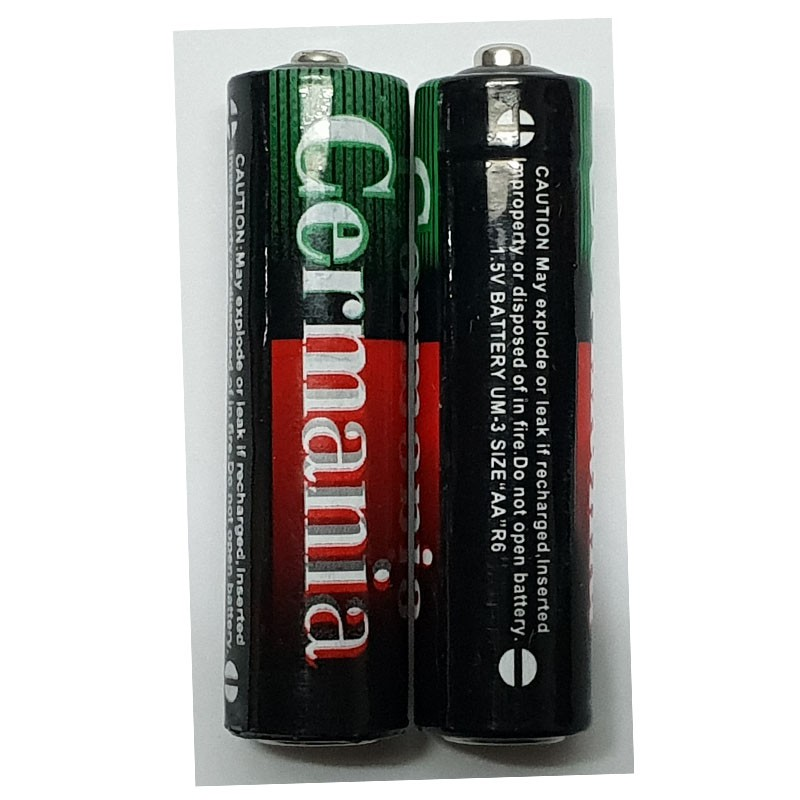Battery: (222, 48, 409, 756), (410, 42, 596, 753)
